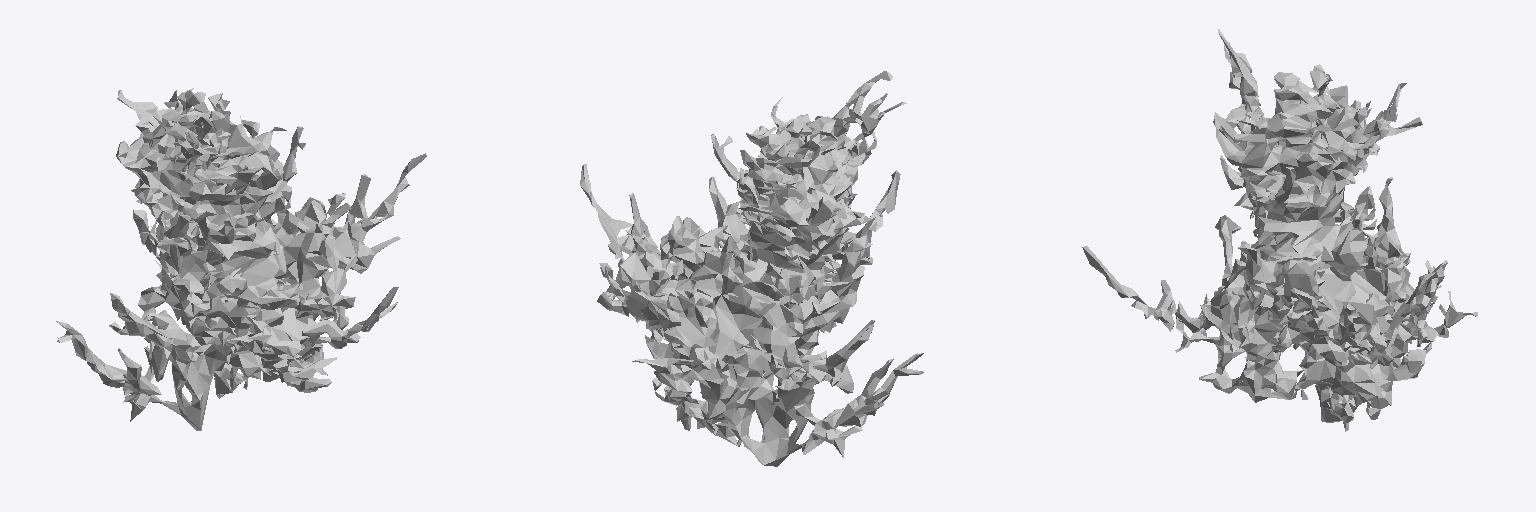
Rendered from e5ee6ad2bc9b_A_wild_shrub_min.obj.
3 renders of one model, left to right at view 1: azimuth 30°, elevation 25°; view 2: azimuth 150°, elevation 25°; view 3: azimuth 270°, elevation 25°, orthographic.
Visible parts, largest first — view 1: mesh; view 2: mesh; view 3: mesh.
Part boxes in pixels (x1,y1,x2,y2): mesh: (56,88,426,430); mesh: (580,71,923,466); mesh: (1082,29,1477,431).
Bounding box in the file's own units: 0.9999 × 0.9852 × 0.9605.